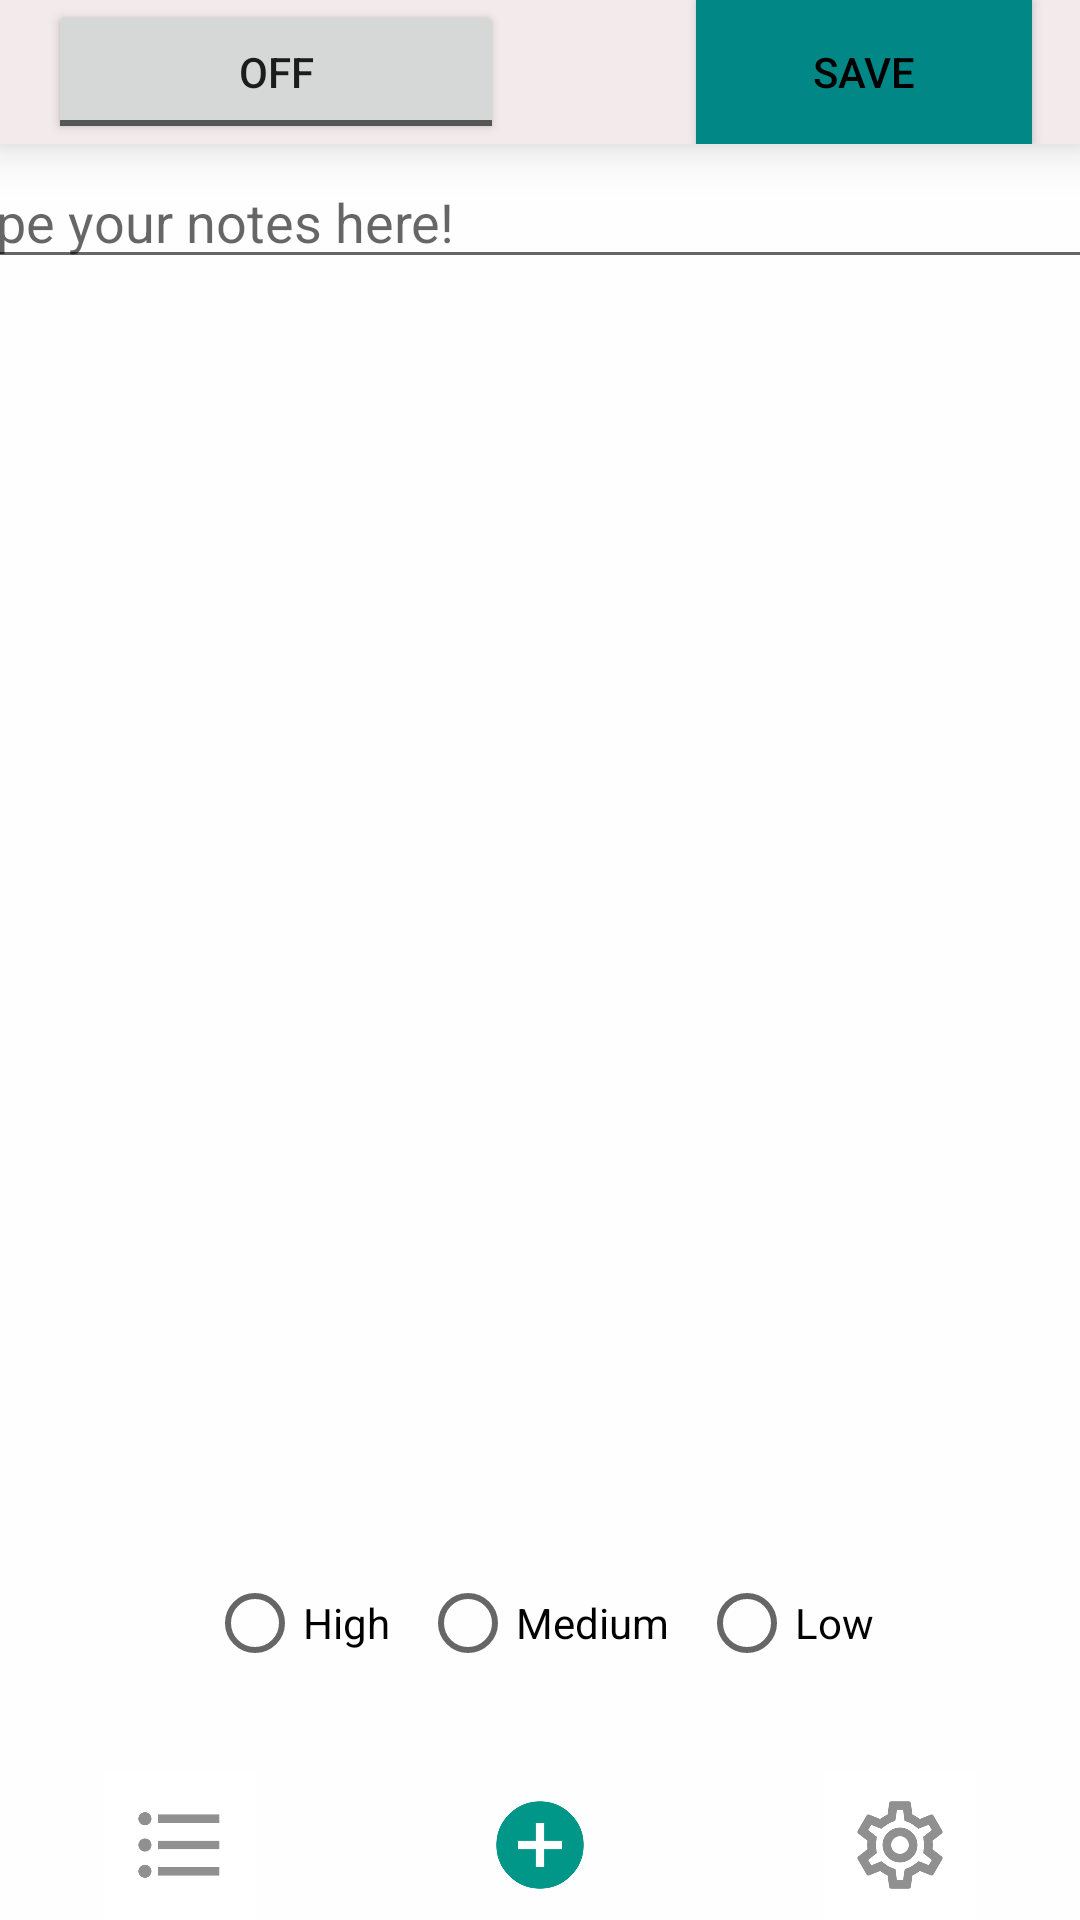

Screen size 1080w x 1920h. Icon name, then its center in pixels as [x,y]:
Button to display the app settings: [900,1845]
list: [179,1845]
newitemfilled: [540,1845]
